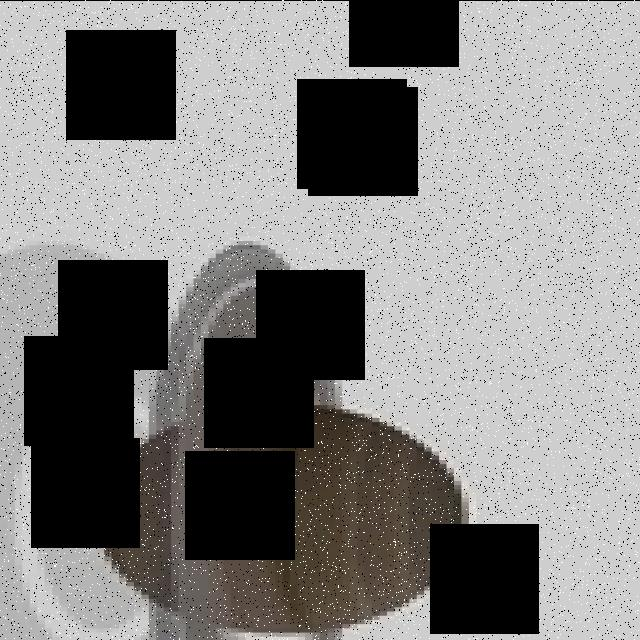Saturn: (89, 240, 469, 640)
